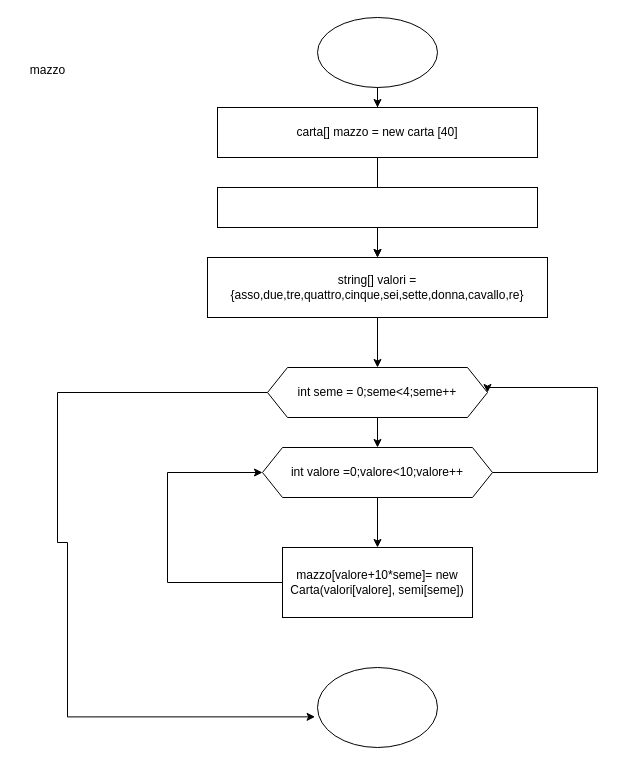
This 623x765 diagram has some shape labels left out. The shapes that lost their labels are listed below. From the top down, each one's box as (x1, y1, x2, y2) in pixels, then its label:
(316, 16, 438, 88): Start
(216, 186, 538, 228): string[] semi = {spade,coppe,denari,bastoni}
(316, 666, 438, 748): end
